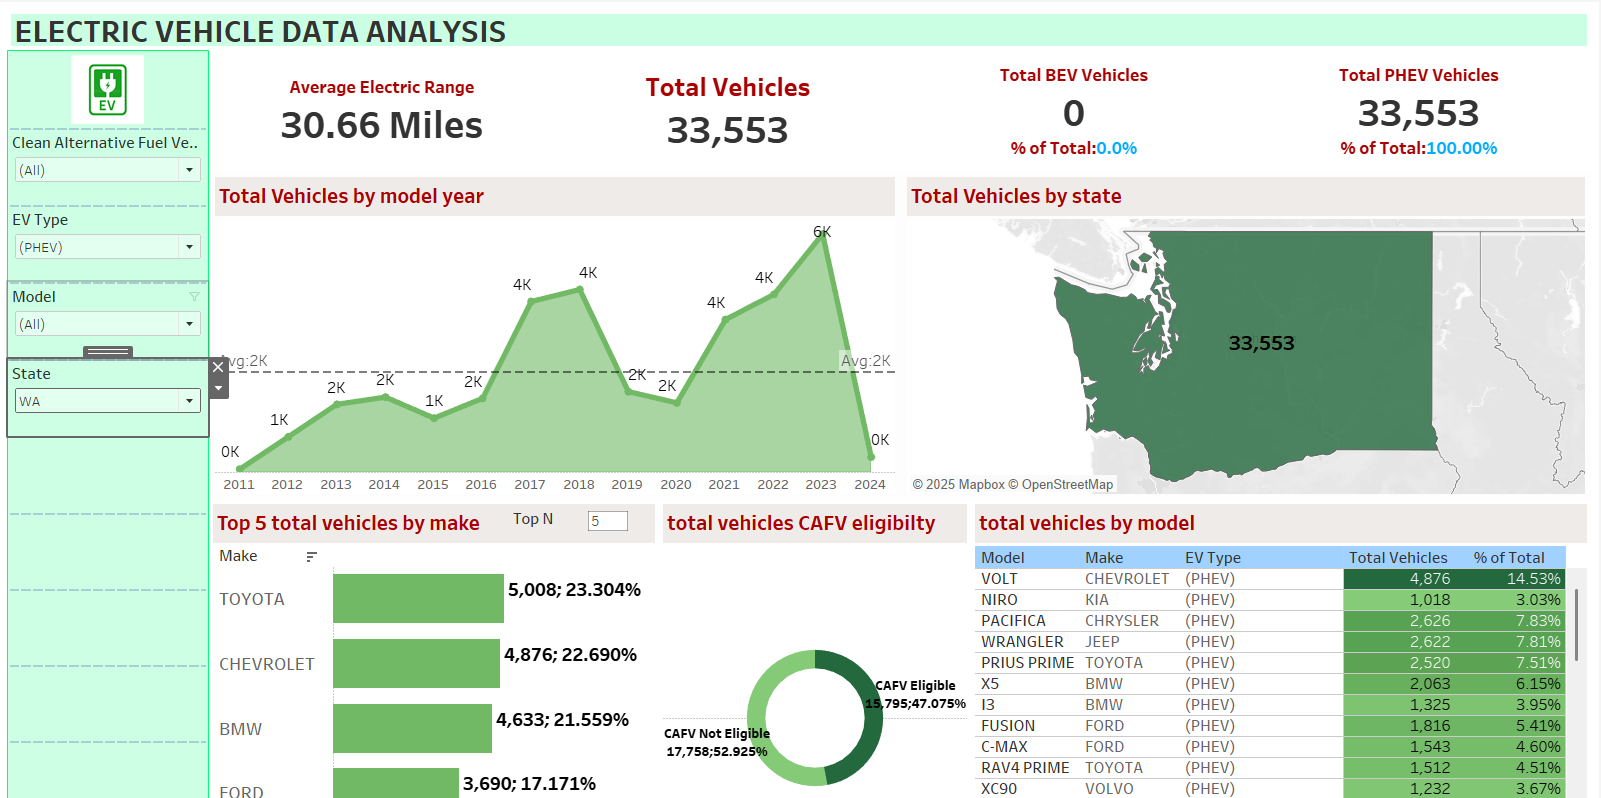

Layout of this report page (visuals, bound fields, positions):
{"tool":"tableau","page":{"name":"ELECTRIC VEHICLE DATA ANALYSIS","canvas":[1600,900],"ordinal":0},"visuals":[{"type":"title","box":[8,8,1584,40]},{"type":"worksheet","title":"average electric range","mark":"Automatic","box":[210,48,346,121]},{"type":"worksheet","title":"total vehicles","mark":"Automatic","box":[556,48,346,121]},{"type":"worksheet","title":"total BEV vehicles","mark":"Automatic","box":[902,48,345,121]},{"type":"worksheet","title":"total PHEV vehicles ","mark":"Automatic","box":[1247,48,345,121]},{"type":"image","param":"Image/download.png","box":[9,49,200,77]},{"type":"filter","title":"Total Vehicles by model year","param":"[federated.01rdx6m1gg19xk1blyqg60uifln7].[none:Clean Alternative Fuel Vehicle (C","box":[9,126,200,77]},{"type":"worksheet","title":"Total Vehicles by model year","mark":"Area","rows":["Calculation_632474340250247168","Calculation_632474340250247168"],"cols":["Model Year"],"box":[210,169,692,329]},{"type":"worksheet","title":"Total Vehicles by state","mark":"Multipolygon","box":[902,169,690,329]},{"type":"filter","title":"Total Vehicles by model year","param":"[federated.01rdx6m1gg19xk1blyqg60uifln7].[none:Electric Vehicle Type:nk]","box":[9,203,200,77]},{"type":"filter","title":"Total Vehicles by model year","param":"[federated.01rdx6m1gg19xk1blyqg60uifln7].[none:Model:nk]","box":[9,280,200,77]},{"type":"filter","title":"Total Vehicles by model year","param":"[federated.01rdx6m1gg19xk1blyqg60uifln7].[none:State:nk]","box":[9,357,200,77]},{"type":"blank","box":[9,434,200,77]},{"type":"worksheet","title":"Top 10 total vehicles by make","mark":"Automatic","rows":["Make"],"cols":["Calculation_632474340250247168"],"box":[210,498,450,394]},{"type":"worksheet","title":"total vehicles CAFV eligibilty","mark":"Pie","rows":["Calculation_632474340311818251","Calculation_632474340311818251"],"box":[660,498,312,394]},{"type":"worksheet","title":"total vehicles by model","mark":"Square","rows":["Model","Make","Electric Vehicle Type"],"box":[972,498,620,394]},{"type":"parameter","param":"[Parameters].[Parameter 1]","box":[514,506,118,28]},{"type":"blank","box":[9,511,200,76]},{"type":"blank","box":[9,587,200,76]},{"type":"blank","box":[9,663,200,76]},{"type":"blank","box":[9,739,200,76]},{"type":"blank","box":[9,815,200,76]}]}

Visuals, with their boxes on the page's 1600x900 design canvas (x1, y1, x2, y2). These are canvas units, not pixel positions in the 1601x798 screenshot, which may show the page scaled, cropped or inside an application window:
title: (x1=8, y1=8, x2=1592, y2=48)
"average electric range" worksheet: (x1=210, y1=48, x2=556, y2=169)
"total vehicles" worksheet: (x1=556, y1=48, x2=902, y2=169)
"total BEV vehicles" worksheet: (x1=902, y1=48, x2=1247, y2=169)
"total PHEV vehicles " worksheet: (x1=1247, y1=48, x2=1592, y2=169)
image: (x1=9, y1=49, x2=209, y2=126)
"Total Vehicles by model year" filter: (x1=9, y1=126, x2=209, y2=203)
"Total Vehicles by model year" worksheet (Area marks): (x1=210, y1=169, x2=902, y2=498)
"Total Vehicles by state" worksheet (Multipolygon marks): (x1=902, y1=169, x2=1592, y2=498)
"Total Vehicles by model year" filter: (x1=9, y1=203, x2=209, y2=280)
"Total Vehicles by model year" filter: (x1=9, y1=280, x2=209, y2=357)
"Total Vehicles by model year" filter: (x1=9, y1=357, x2=209, y2=434)
blank: (x1=9, y1=434, x2=209, y2=511)
"Top 10 total vehicles by make" worksheet: (x1=210, y1=498, x2=660, y2=892)
"total vehicles CAFV eligibilty" worksheet (Pie marks): (x1=660, y1=498, x2=972, y2=892)
"total vehicles by model" worksheet (Square marks): (x1=972, y1=498, x2=1592, y2=892)
parameter: (x1=514, y1=506, x2=632, y2=534)
blank: (x1=9, y1=511, x2=209, y2=587)
blank: (x1=9, y1=587, x2=209, y2=663)
blank: (x1=9, y1=663, x2=209, y2=739)
blank: (x1=9, y1=739, x2=209, y2=815)
blank: (x1=9, y1=815, x2=209, y2=891)
